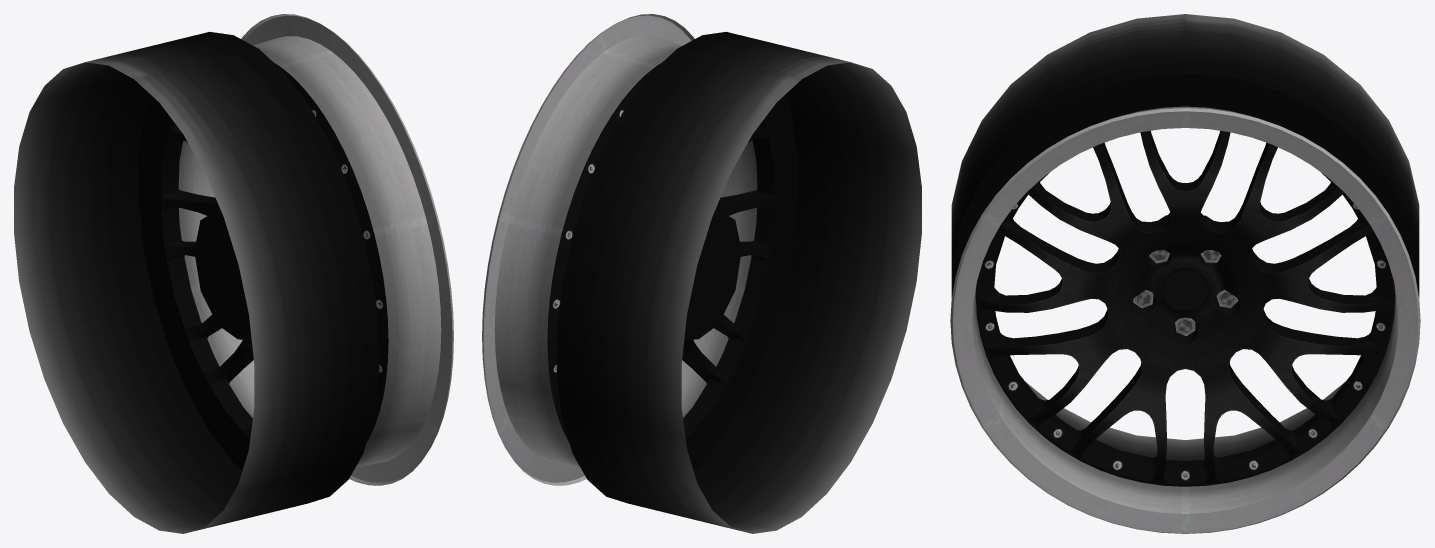
Rendered from wheel52.fbx.
3 views of the same model, side by side, from view 1: azimuth 30°, elevation 25°; view 2: azimuth 150°, elevation 25°; view 3: azimuth 270°, elevation 25° (orthographic). The views are drawn at different scales.
Parts seen in each view (by area): view 1: ham_edition_race_wheel_wheel_inner_rim_, ham_edition_race_wheel_wheel_chrome_blur_lip_, ham_edition_race_wheel_wheel_blur_lip_, ham_edition_race_wheel_wheel_rim_, wheel_rim; view 2: ham_edition_race_wheel_wheel_inner_rim_, ham_edition_race_wheel_wheel_chrome_blur_lip_, ham_edition_race_wheel_wheel_blur_lip_, ham_edition_race_wheel_wheel_rim_, wheel_rim; view 3: ham_edition_race_wheel_wheel_rim_, ham_edition_race_wheel_wheel_inner_rim_, ham_edition_race_wheel_wheel_chrome_blur_lip_, ham_edition_race_wheel_wheel_blur_lip_, wheel_rim.
Part boxes in pixels (x1,y1,x2,y2): ham_edition_race_wheel_wheel_inner_rim_: [14, 31, 378, 533]; ham_edition_race_wheel_wheel_chrome_blur_lip_: [178, 15, 452, 482]; ham_edition_race_wheel_wheel_blur_lip_: [161, 63, 388, 442]; ham_edition_race_wheel_wheel_rim_: [161, 65, 387, 425]; wheel_rim: [241, 14, 453, 485]; ham_edition_race_wheel_wheel_inner_rim_: [557, 31, 921, 533]; ham_edition_race_wheel_wheel_chrome_blur_lip_: [483, 15, 757, 482]; ham_edition_race_wheel_wheel_blur_lip_: [547, 63, 774, 442]; ham_edition_race_wheel_wheel_rim_: [549, 63, 774, 432]; wheel_rim: [482, 14, 694, 485]; ham_edition_race_wheel_wheel_rim_: [978, 131, 1392, 483]; ham_edition_race_wheel_wheel_inner_rim_: [951, 14, 1419, 460]; ham_edition_race_wheel_wheel_chrome_blur_lip_: [952, 106, 1418, 533]; ham_edition_race_wheel_wheel_blur_lip_: [975, 173, 1395, 486]; wheel_rim: [950, 108, 1420, 533].
Size of the model in its own units: 0.2301 by 0.48 by 0.48.
1 material, 1 textured.
